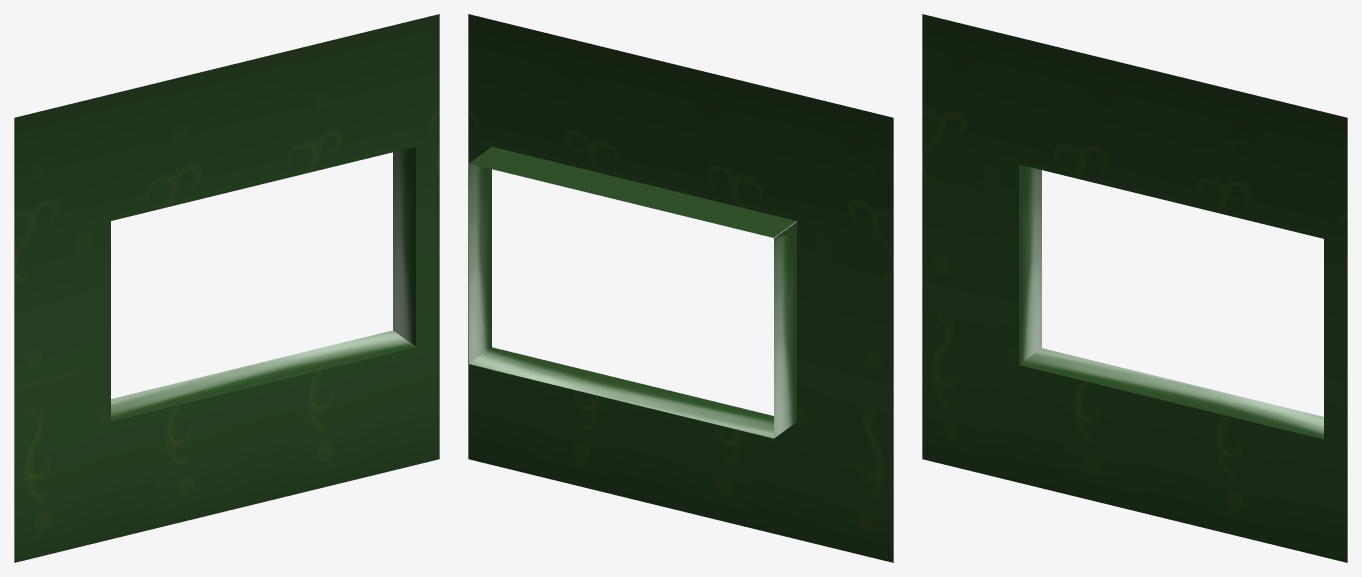
The model's file is walls_papas_window.fbx.
3 renders of one model, left to right at view 1: azimuth 30°, elevation 25°; view 2: azimuth 150°, elevation 25°; view 3: azimuth 330°, elevation 25°, orthographic.
Parts seen in each view (by area): view 1: walls_interior.006; view 2: walls_interior.006; view 3: walls_interior.006.
Part boxes in pixels (x1=…): walls_interior.006: x1=14, y1=14, x2=439, y2=562; walls_interior.006: x1=468, y1=14, x2=893, y2=562; walls_interior.006: x1=922, y1=14, x2=1347, y2=562.
Bounding box in the file's own units: 3 × 3 × 0.2824.
Materials: 1 (1 with a texture image).
